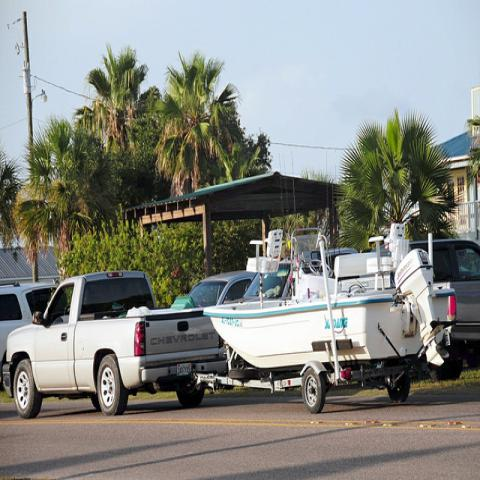car: (0, 280, 61, 391)
truck: (7, 268, 233, 416), (411, 237, 479, 378), (188, 266, 258, 309)
